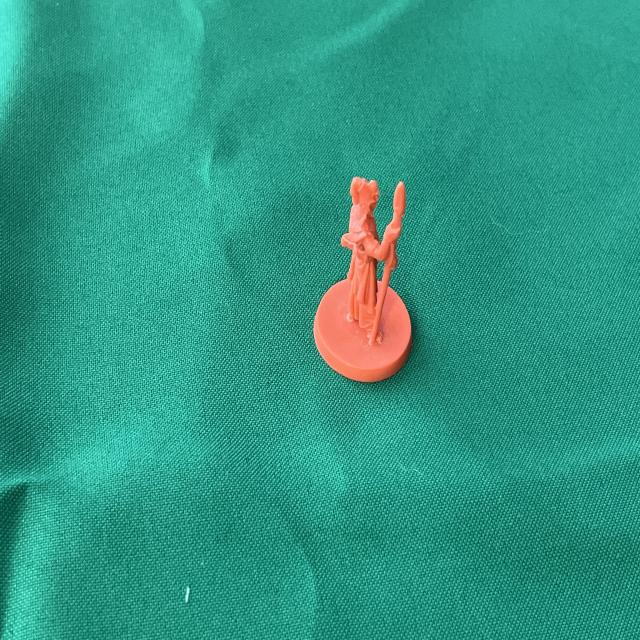amon_follower: (314, 177, 411, 382)
